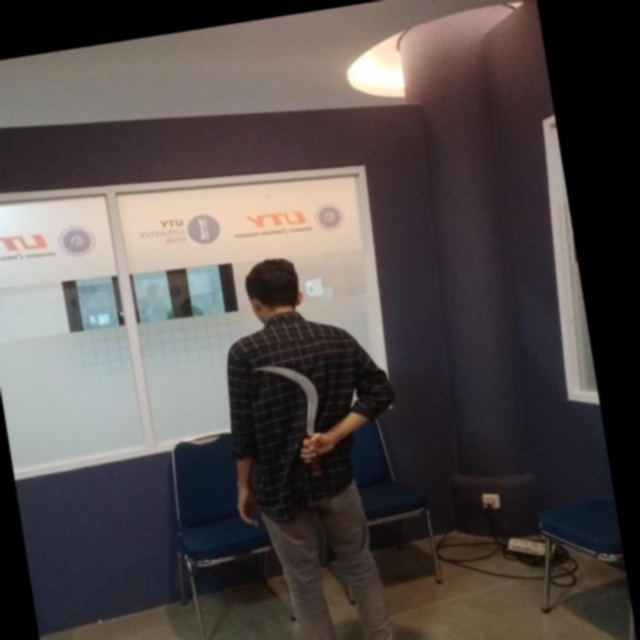Sharp-Object: (248, 343, 342, 473)
